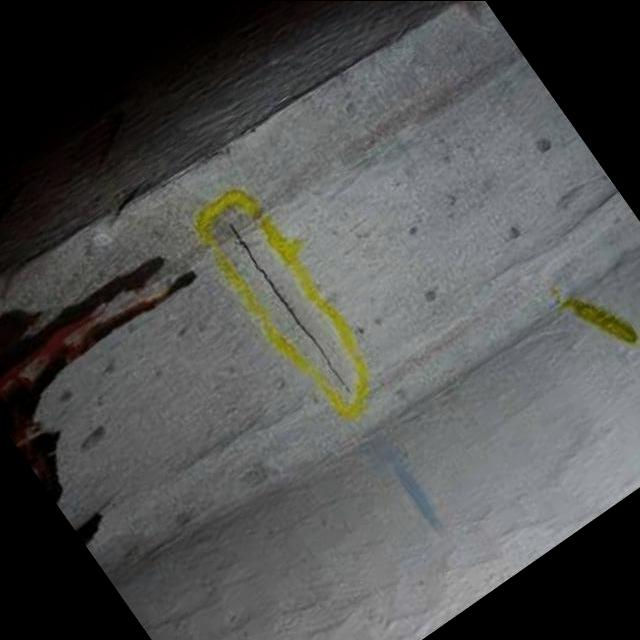defect: (225, 215, 356, 395)
